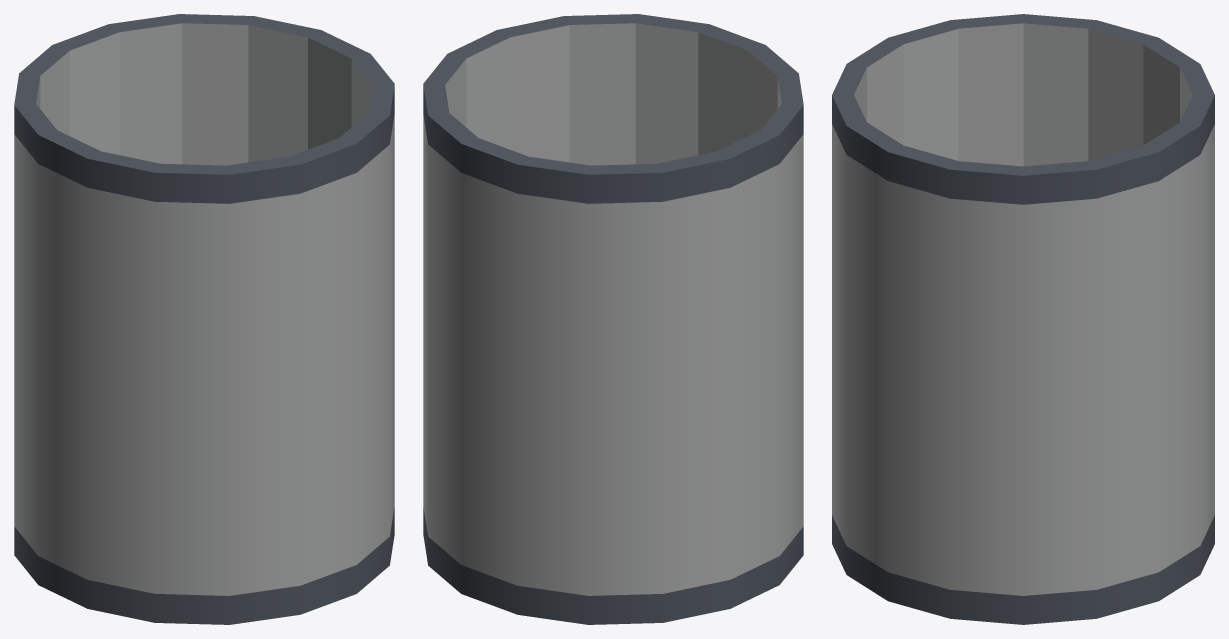
Rendered from garbase container2.FBX.
3 renders of one model, left to right at view 1: azimuth 30°, elevation 25°; view 2: azimuth 150°, elevation 25°; view 3: azimuth 270°, elevation 25°, orthographic.
Parts seen in each view (by area): view 1: garbase container2; view 2: garbase container2; view 3: garbase container2.
Part boxes in pixels (x1,y1,x2,y2): garbase container2: (14,14,394,624); garbase container2: (423,14,803,624); garbase container2: (832,14,1214,624).
Bounding box in the file's own units: 2.8 × 3.62 × 2.8.
